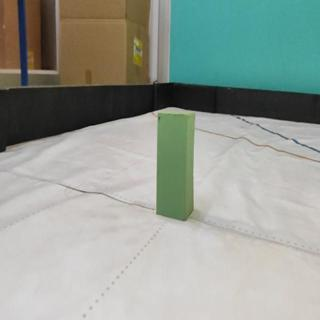greenbox: (155, 111, 196, 221)
